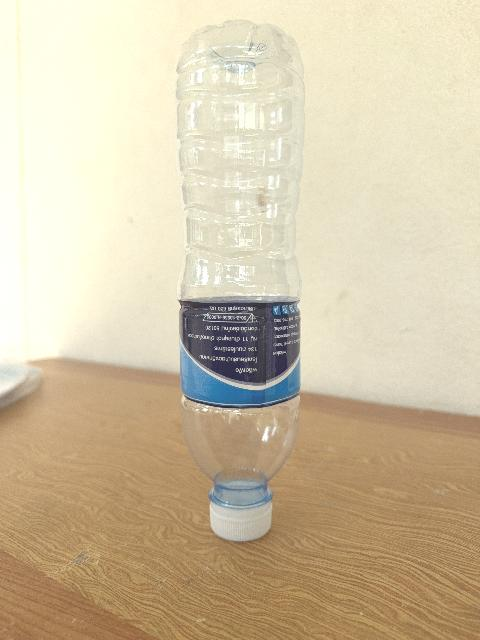bottle: (177, 21, 304, 540)
